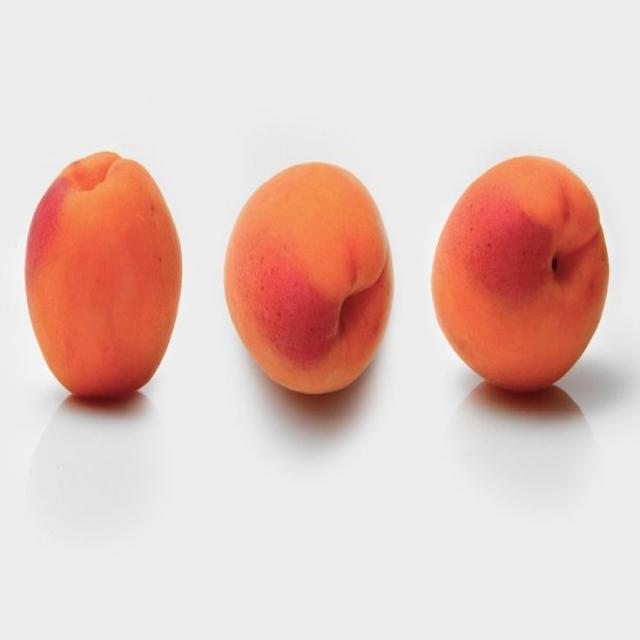kayisi: (429, 156, 611, 397), (224, 165, 395, 398), (24, 152, 183, 402)
